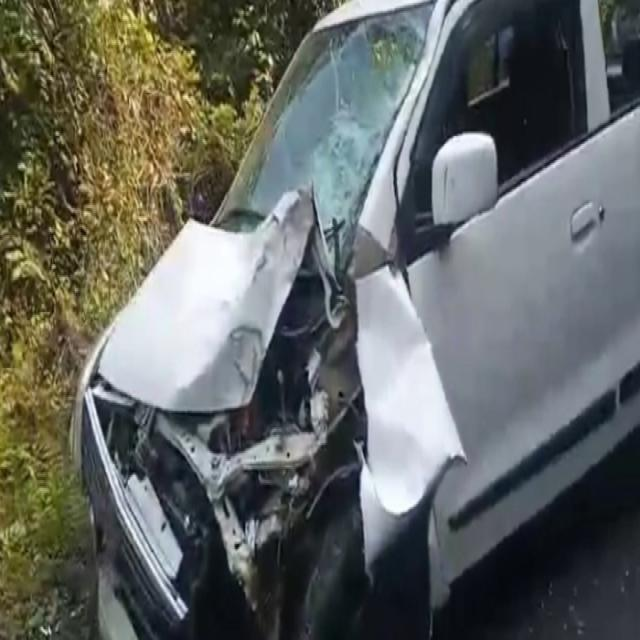accident: (71, 1, 640, 638)
